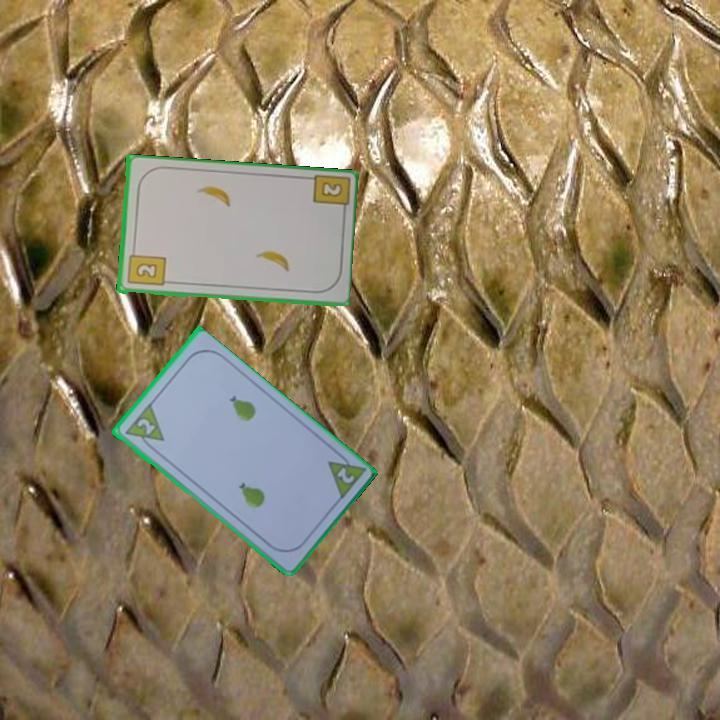2b: (124, 245, 167, 289), (317, 178, 345, 200)
2p: (133, 415, 158, 438), (332, 464, 357, 487)
